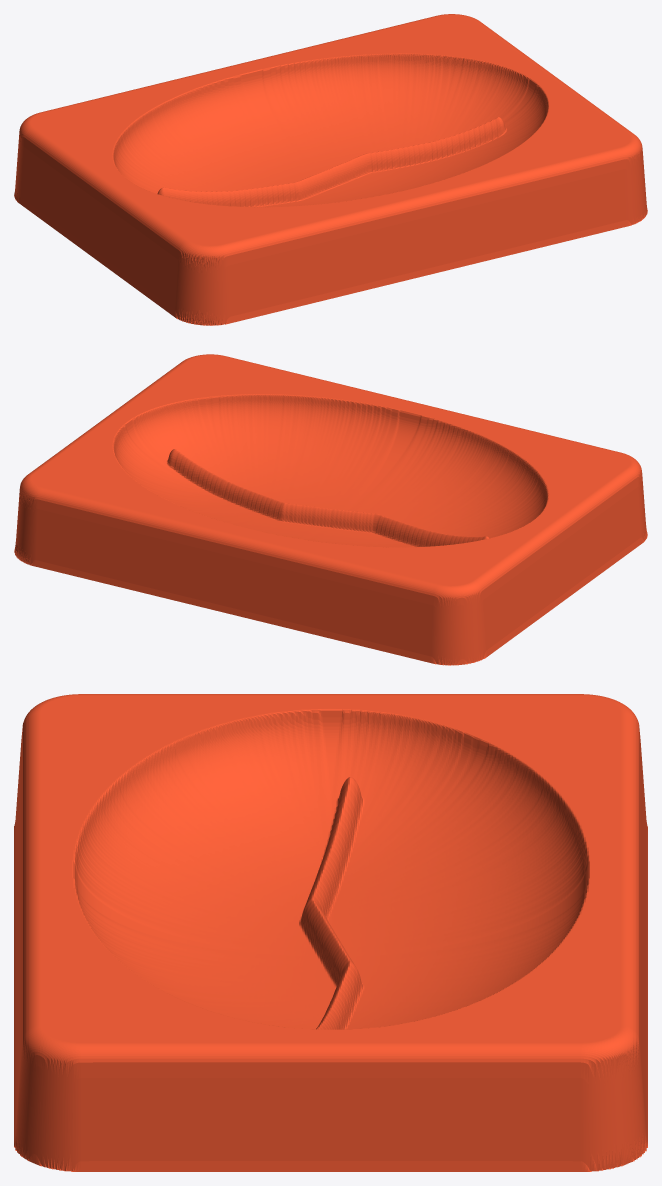
Rendered from mold.glb.
3 renders of one model, top to bottom at view 1: azimuth 30°, elevation 25°; view 2: azimuth 150°, elevation 25°; view 3: azimuth 270°, elevation 25°, orthographic. The views are drawn at different scales.
Visible parts, largest first — view 1: geometry_0; view 2: geometry_0; view 3: geometry_0.
Part boxes in pixels (x1=…): geometry_0: x1=14, y1=14, x2=647, y2=325; geometry_0: x1=14, y1=354, x2=647, y2=665; geometry_0: x1=14, y1=694, x2=647, y2=1171.
Bounding box in the file's own units: 0.1178 × 0.0175 × 0.0854.
